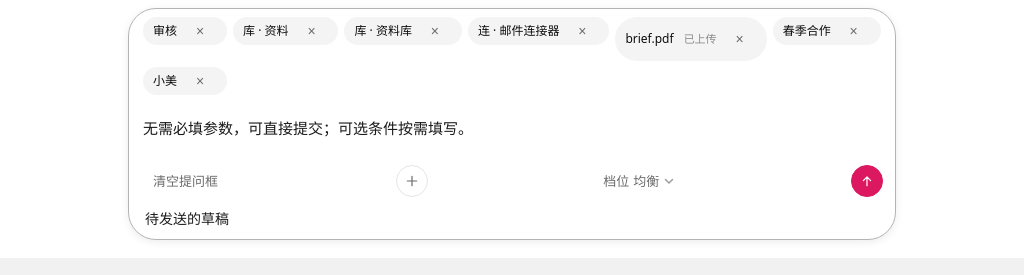
Test: ComposerDock draft clear › clears draft-only structural state and routes lock cleanup to the owning page
Step 1. Click the button "清空提问框" → [186, 181], box [145,167,226,195]
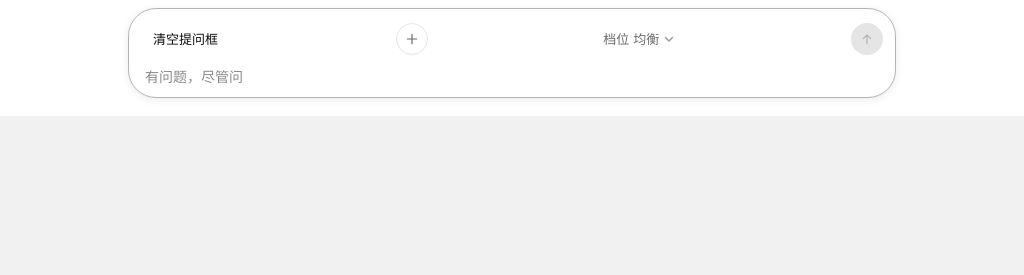
expect the button "清空提问框" is disabled: met, box [145,25,226,53]
